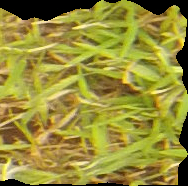grass: (1, 1, 186, 185)
